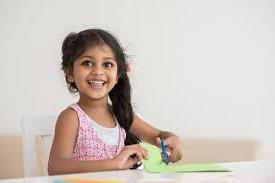Human: (48, 28, 185, 183)
